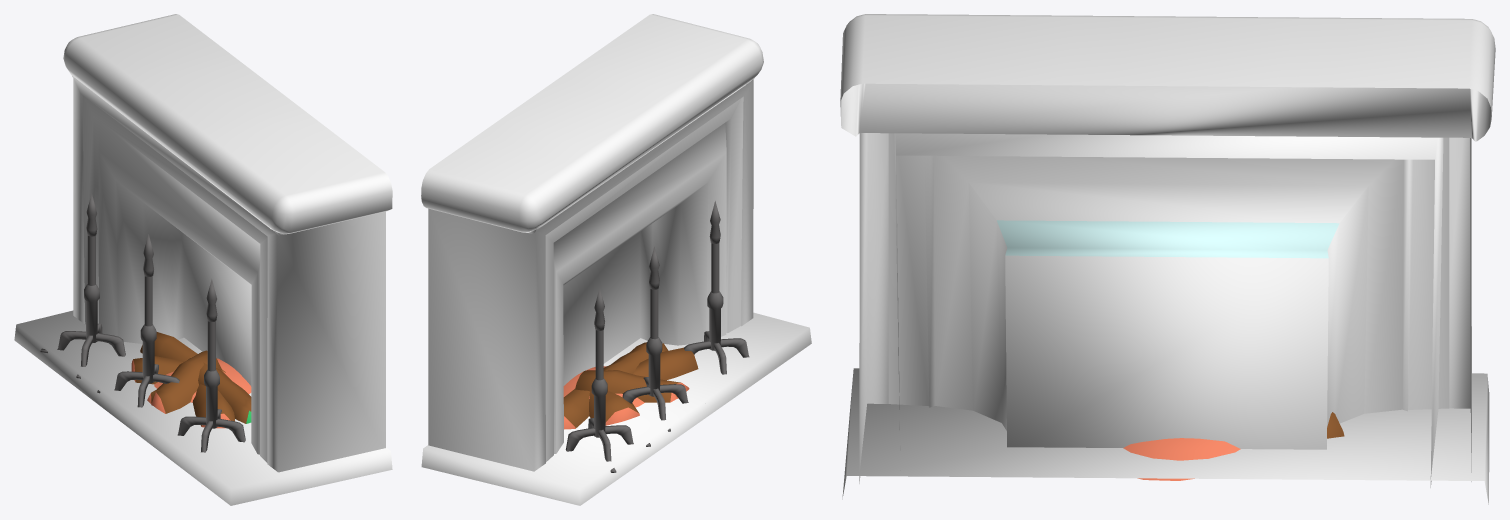
File: Fireplace_Traditional .fbx
The picture shows the model from 3 angles, left to right: view 1: azimuth 30°, elevation 25°; view 2: azimuth 150°, elevation 25°; view 3: azimuth 270°, elevation 25°; orthographic projection. The views are drawn at different scales.
Visible parts, largest first — view 1: Fireplace_Traditional; view 2: Fireplace_Traditional; view 3: Fireplace_Traditional.
Boxes of the visible parts, x1=… form: Fireplace_Traditional: x1=14, y1=14, x2=392, y2=505; Fireplace_Traditional: x1=421, y1=14, x2=811, y2=505; Fireplace_Traditional: x1=840, y1=14, x2=1495, y2=504.
Size of the model in its own units: 463 by 780 by 1111.
